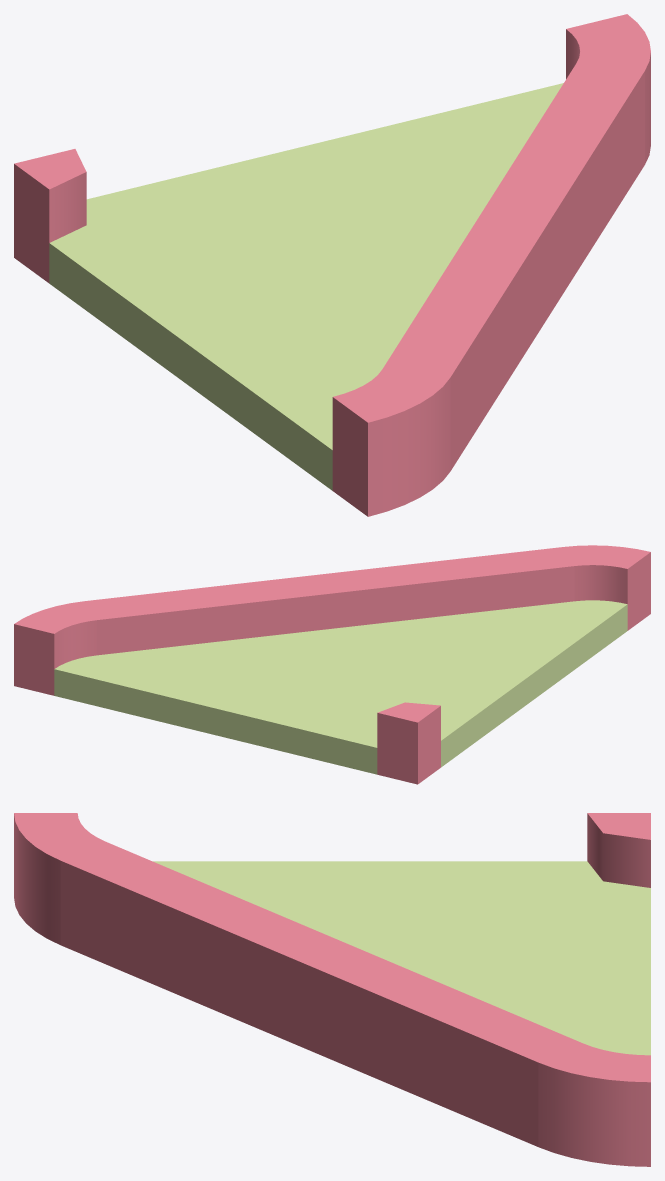
File: skewCorner.fbx
3 renders of one model, top to bottom at view 1: azimuth 30°, elevation 25°; view 2: azimuth 150°, elevation 25°; view 3: azimuth 270°, elevation 25°, orthographic. The views are drawn at different scales.
Parts seen in each view (by area): view 1: skewCorner; view 2: skewCorner; view 3: skewCorner.
Boxes of the visible parts, bbox=[...] form: skewCorner: bbox=[14, 14, 650, 516]; skewCorner: bbox=[14, 545, 650, 784]; skewCorner: bbox=[14, 813, 650, 1166].
Bounding box in the file's own units: 99.99 × 14.67 × 99.99.
